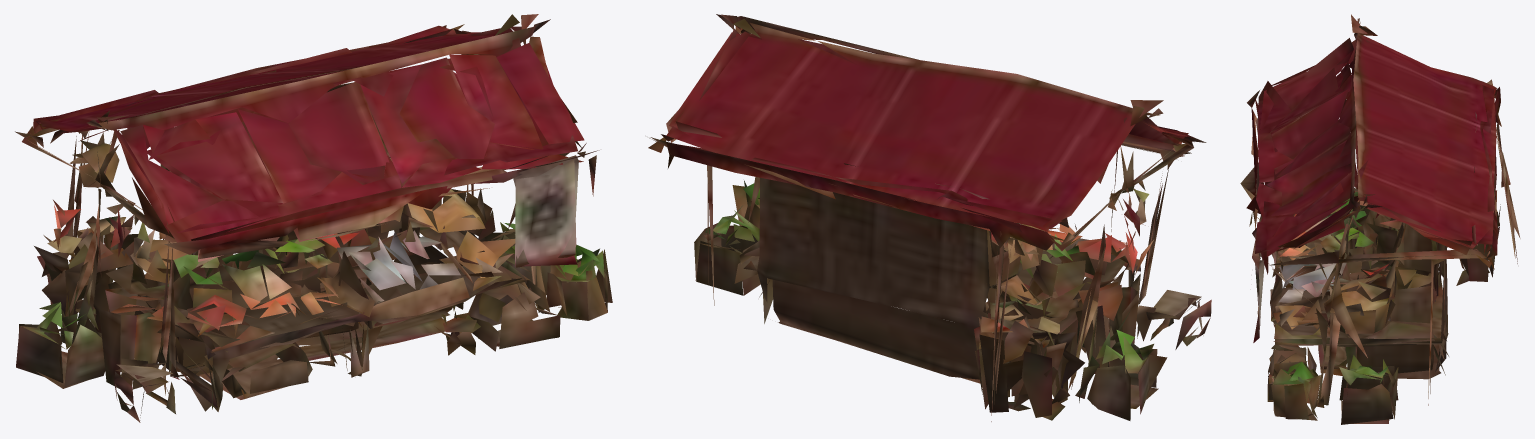
File: barraca_lod2.glb
3 renders of one model, left to right at view 1: azimuth 30°, elevation 25°; view 2: azimuth 150°, elevation 25°; view 3: azimuth 270°, elevation 25°, orthographic. The views are drawn at different scales.
Visible parts, largest first — view 1: barraca; view 2: barraca; view 3: barraca.
Boxes of the visible parts, left/top/right/bottom form: barraca: left=15, top=14, right=612, bottom=422; barraca: left=648, top=14, right=1211, bottom=421; barraca: left=1240, top=14, right=1520, bottom=424.
Size of the model in its own units: 5.41 by 3.02 by 3.22.
1 material, 1 textured.
